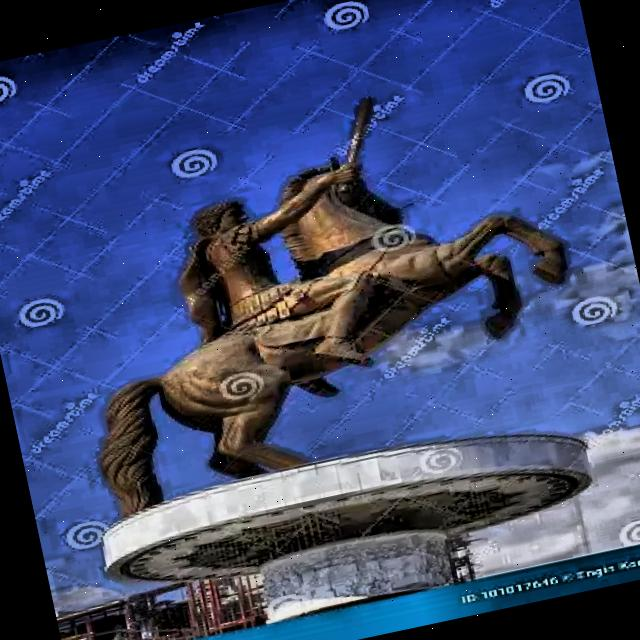alexander the great monument: (17, 69, 617, 640)
